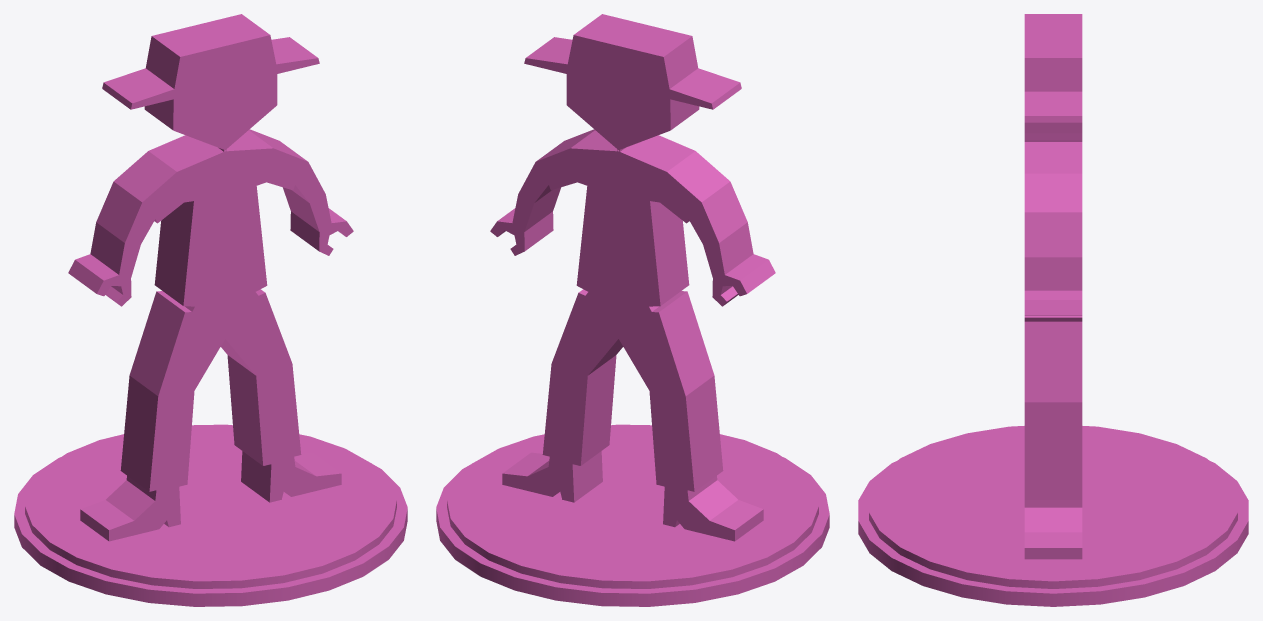
Rendered from edouard.gltf.
3 renders of one model, left to right at view 1: azimuth 30°, elevation 25°; view 2: azimuth 150°, elevation 25°; view 3: azimuth 270°, elevation 25°, orthographic.
Visible parts, largest first — view 1: Sim-On; view 2: Sim-On; view 3: Sim-On.
Part boxes in pixels (left/top/right/bottom): Sim-On: left=14, top=14, right=407, bottom=606; Sim-On: left=436, top=14, right=829, bottom=606; Sim-On: left=858, top=14, right=1248, bottom=606.
Bounding box in the file's own units: 0.6339 × 0.8675 × 0.6292.
